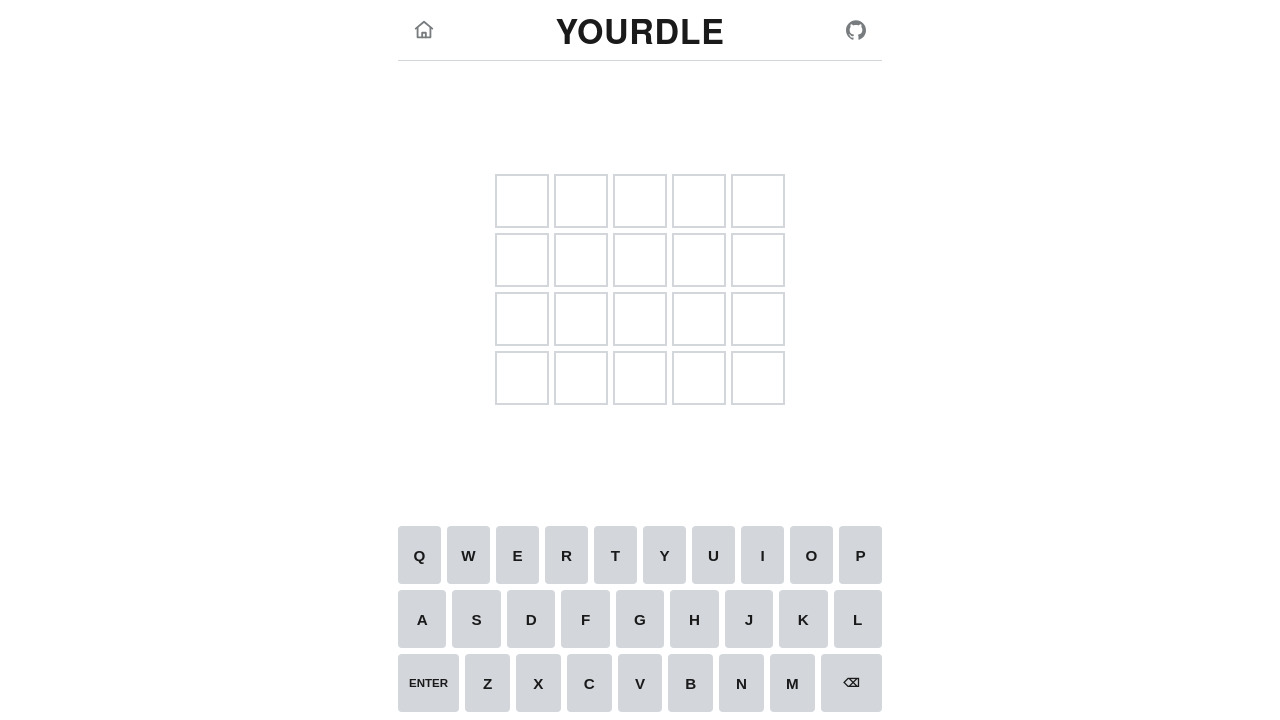
Test: Game result modal › can be reopened after it is dismissed
Type keys "scary{Enter}"
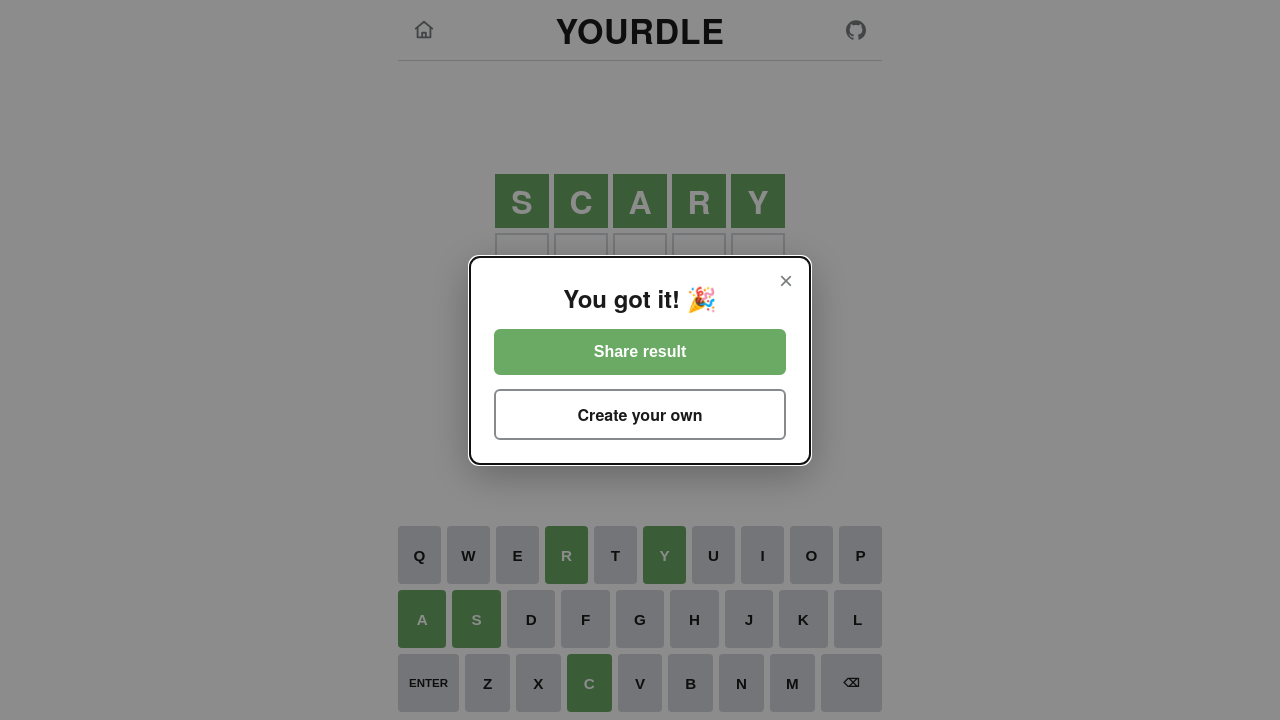
Check: the button "Show result" is not shown
Check: the heading "You got it! 🎉" is shown, box [563,280,717,314]
Click the element "× You got it! 🎉 Share result Create your own": {"x": 77, "y": 360} [0,0,1279,719]
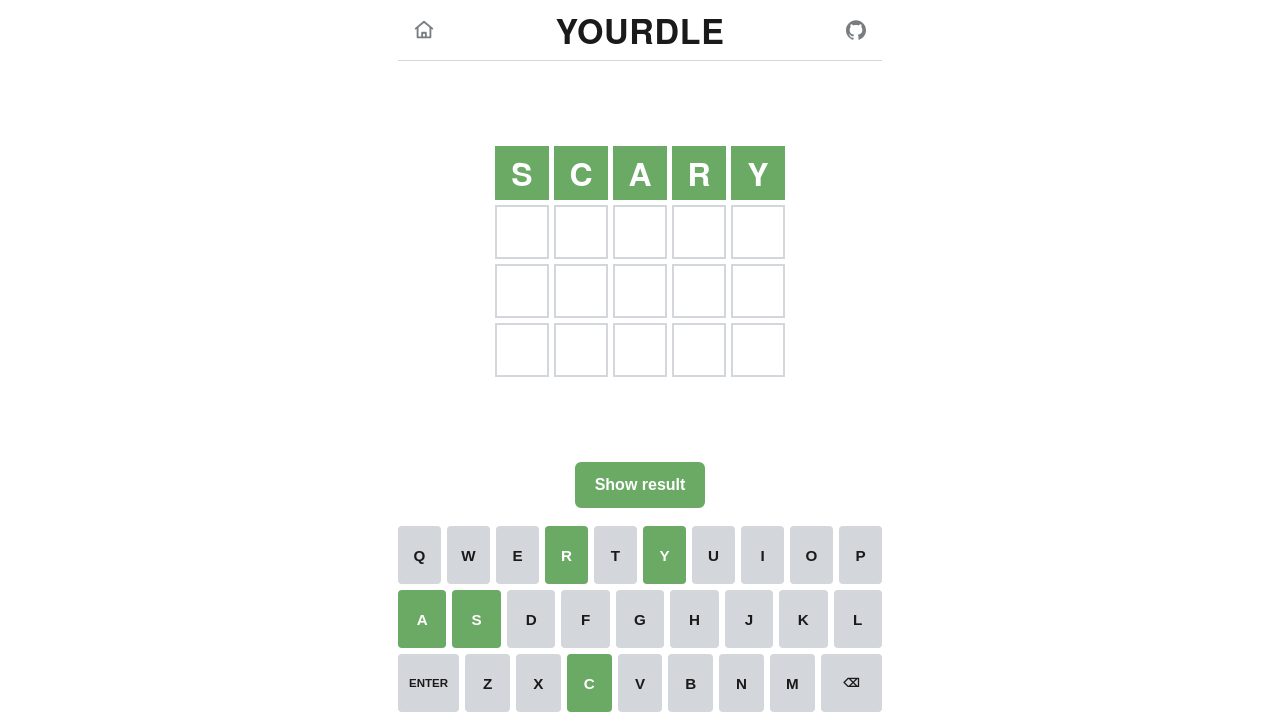
Check: the heading "You got it" is gone
Click the button "Show result": {"x": 640, "y": 485} [575,462,705,508]
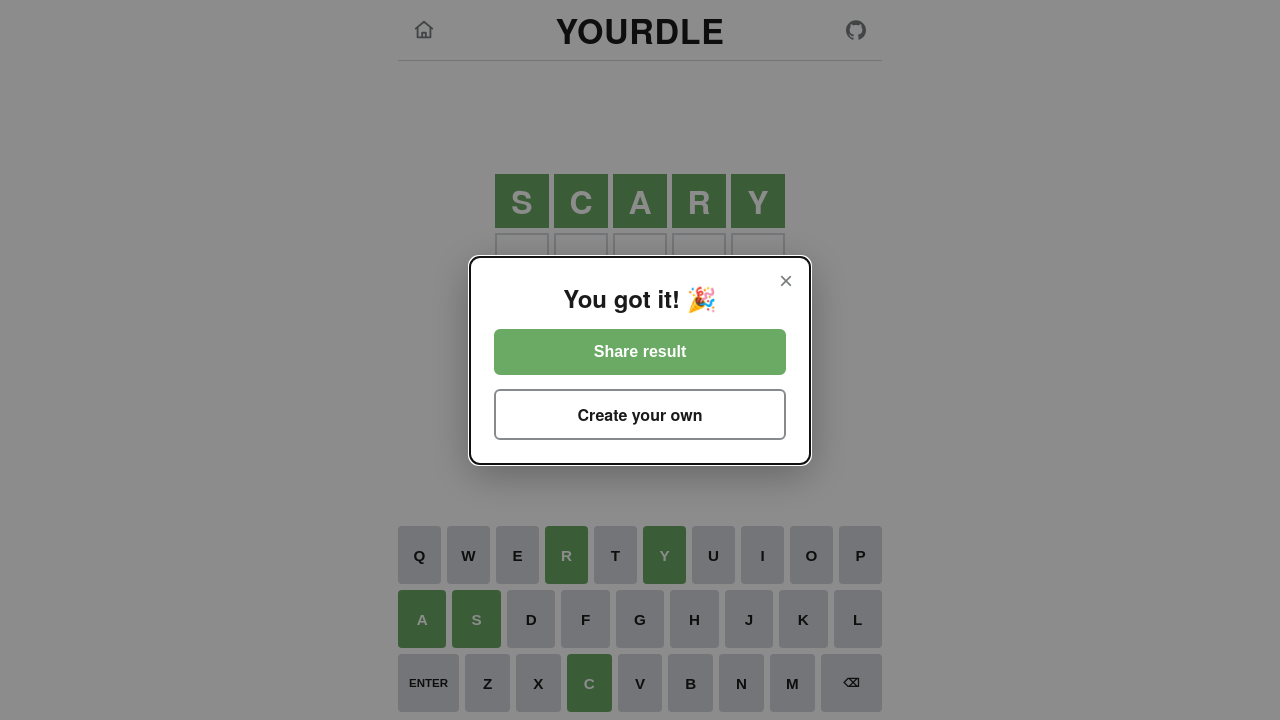
Check: the heading "You got it! 🎉" is shown, box [563,280,717,314]
Check: the button "Show result" is gone
